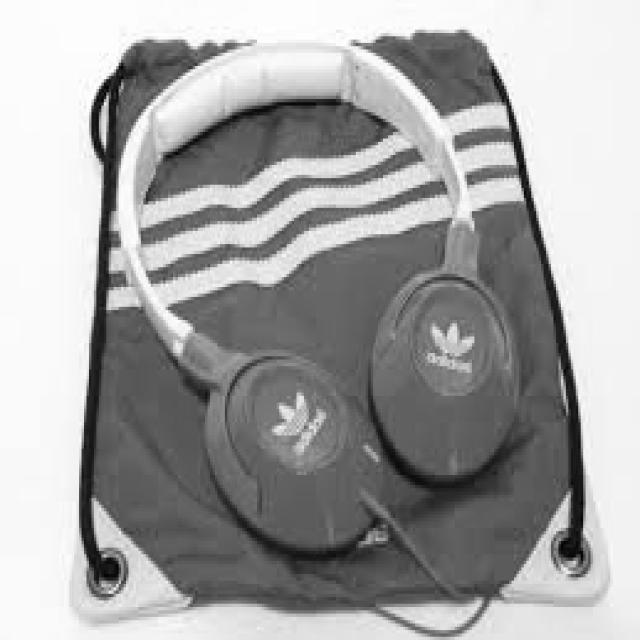Adidas: (425, 300, 489, 366), (270, 383, 312, 452)
